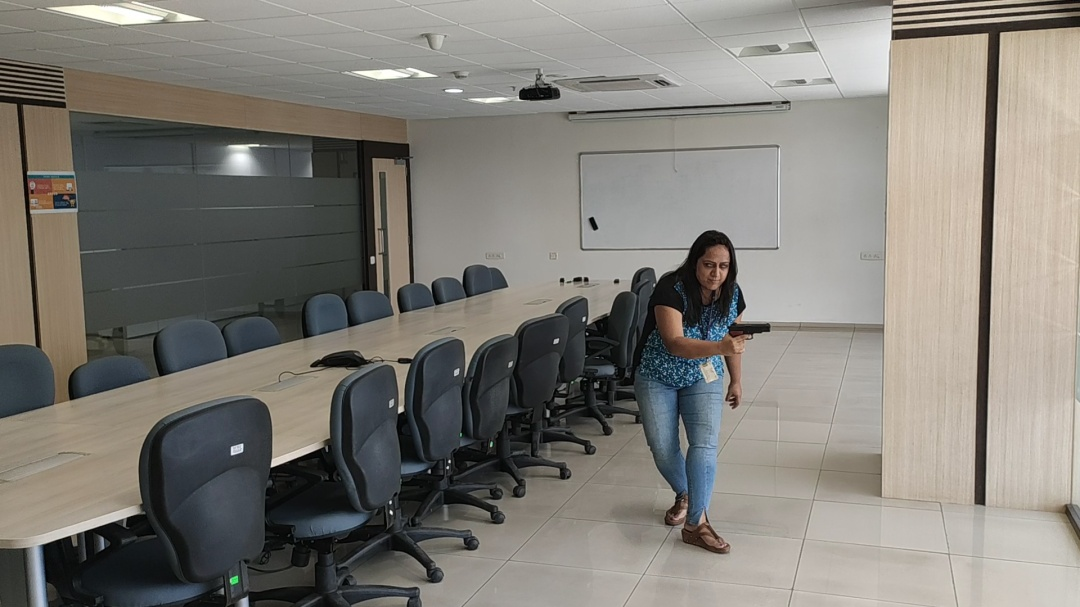gun: (728, 322, 773, 339)
